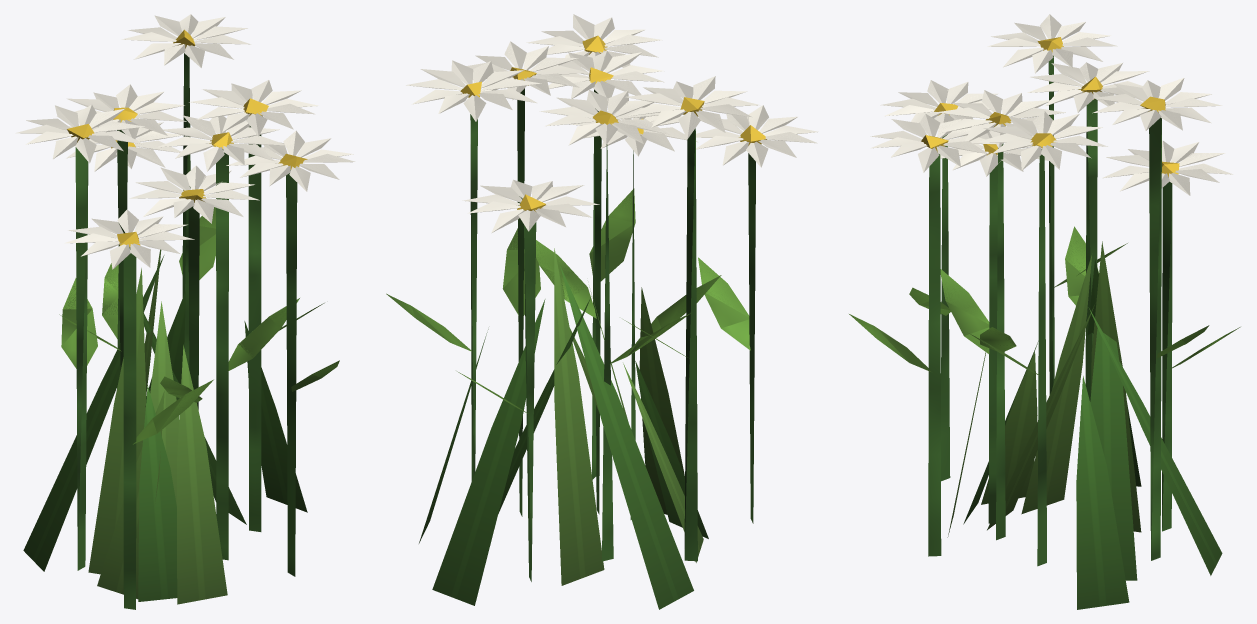
The model's file is SM_Flowers_Daisy_LOD2.gltf.
The picture shows the model from 3 angles, left to right: view 1: azimuth 30°, elevation 25°; view 2: azimuth 150°, elevation 25°; view 3: azimuth 270°, elevation 25°; orthographic projection. The views are drawn at different scales.
Parts seen in each view (by area): view 1: SM_Flowers_Daisy_LOD2; view 2: SM_Flowers_Daisy_LOD2; view 3: SM_Flowers_Daisy_LOD2.
Boxes of the visible parts, x1,y1,x2,y2 form: SM_Flowers_Daisy_LOD2: (15, 14, 355, 609); SM_Flowers_Daisy_LOD2: (386, 14, 818, 609); SM_Flowers_Daisy_LOD2: (849, 14, 1240, 609).
Size of the model in its own units: 0.283 by 0.4241 by 0.3218.
Materials: 1 (1 with a texture image).
